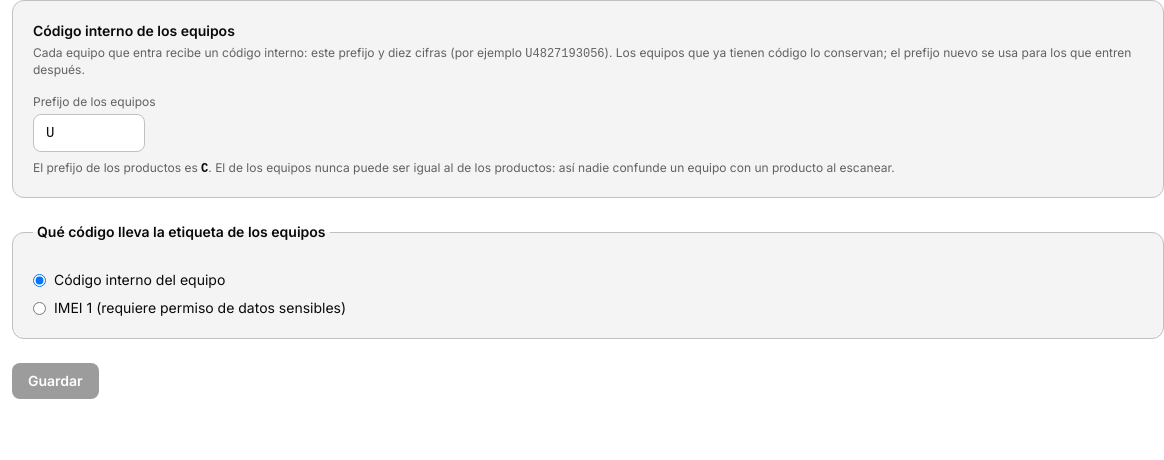
Scenario: Configuración de etiquetas › guarda sólo lo que cambió y dice que quedó guardado
Replace the text in the field labelled "Prefijo de los equipos" with "eq" at (89, 133), box [33,114,145,152]
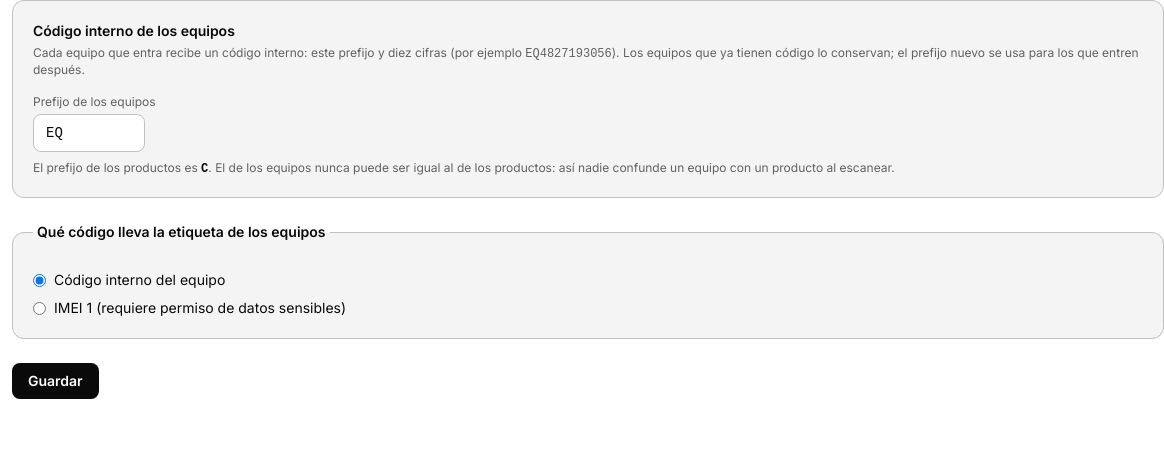
Click the button "Guardar" at (55, 381), box [12,363,99,399]
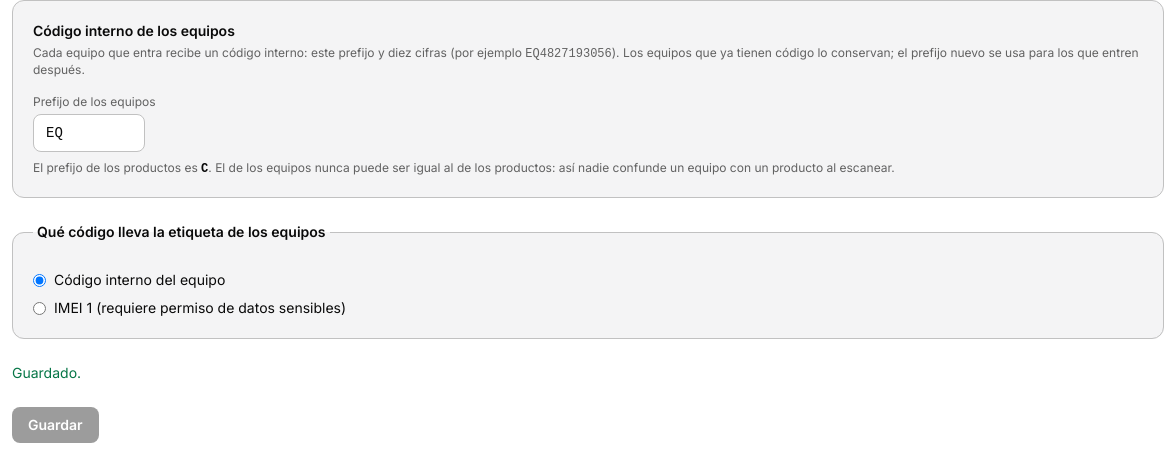
Expected: the message shows "Guardado", [12,364,81,381]
